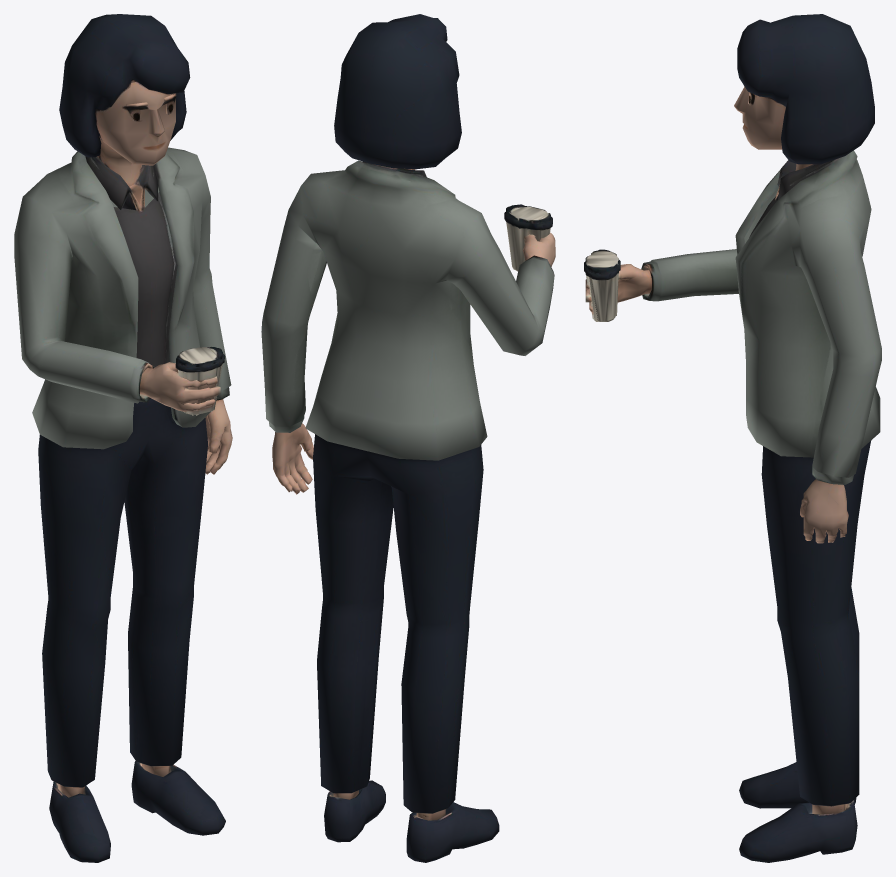
Rendered from original_glb.glb.
The picture shows the model from 3 angles, left to right: view 1: azimuth 30°, elevation 25°; view 2: azimuth 150°, elevation 25°; view 3: azimuth 270°, elevation 25°; orthographic projection.
Visible parts, largest first — view 1: Office worker B; view 2: Office worker B; view 3: Office worker B.
Part boxes in pixels (left/top/right/bottom): Office worker B: left=14, top=14, right=232, bottom=862; Office worker B: left=261, top=14, right=555, bottom=862; Office worker B: left=584, top=14, right=881, bottom=862.
Size of the model in its own units: 0.3027 by 0.998 by 0.334.
1 material, 1 textured.
